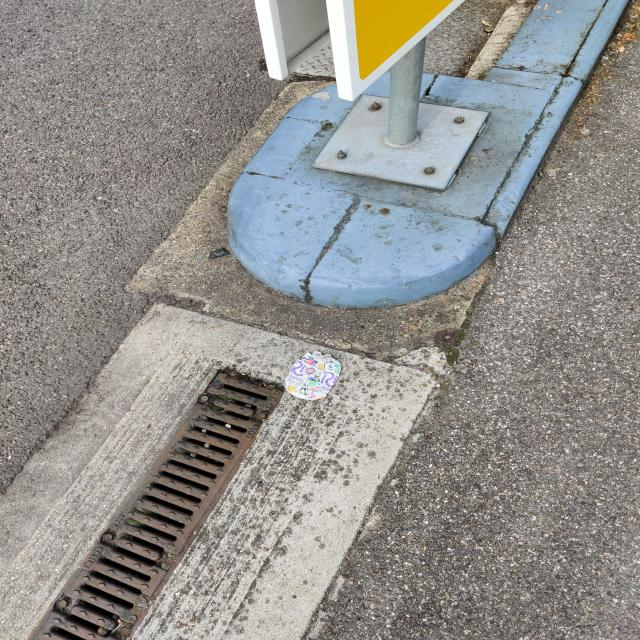litter: (275, 345, 353, 407)
